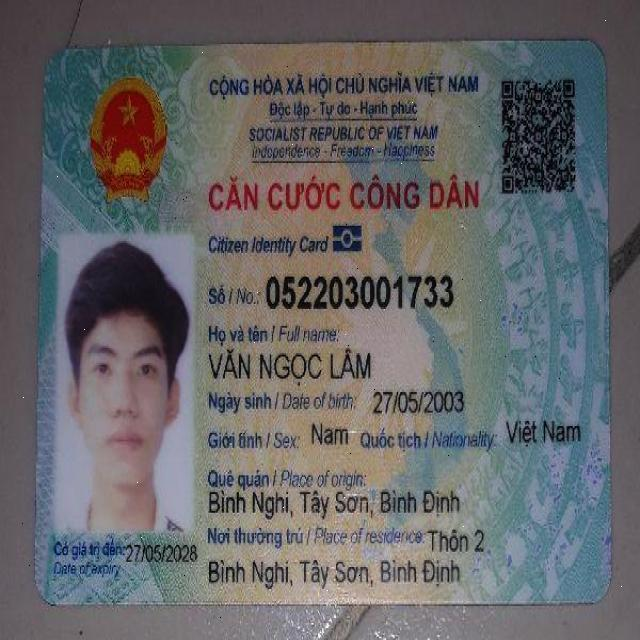current_place: (205, 553, 467, 594), (426, 525, 488, 553)
dob: (367, 385, 474, 423)
expire_date: (123, 542, 201, 569)
gender: (301, 418, 354, 445)
id: (264, 265, 456, 321)
name: (199, 345, 374, 382)
nationality: (502, 414, 589, 453)
origin_place: (205, 487, 463, 519)
